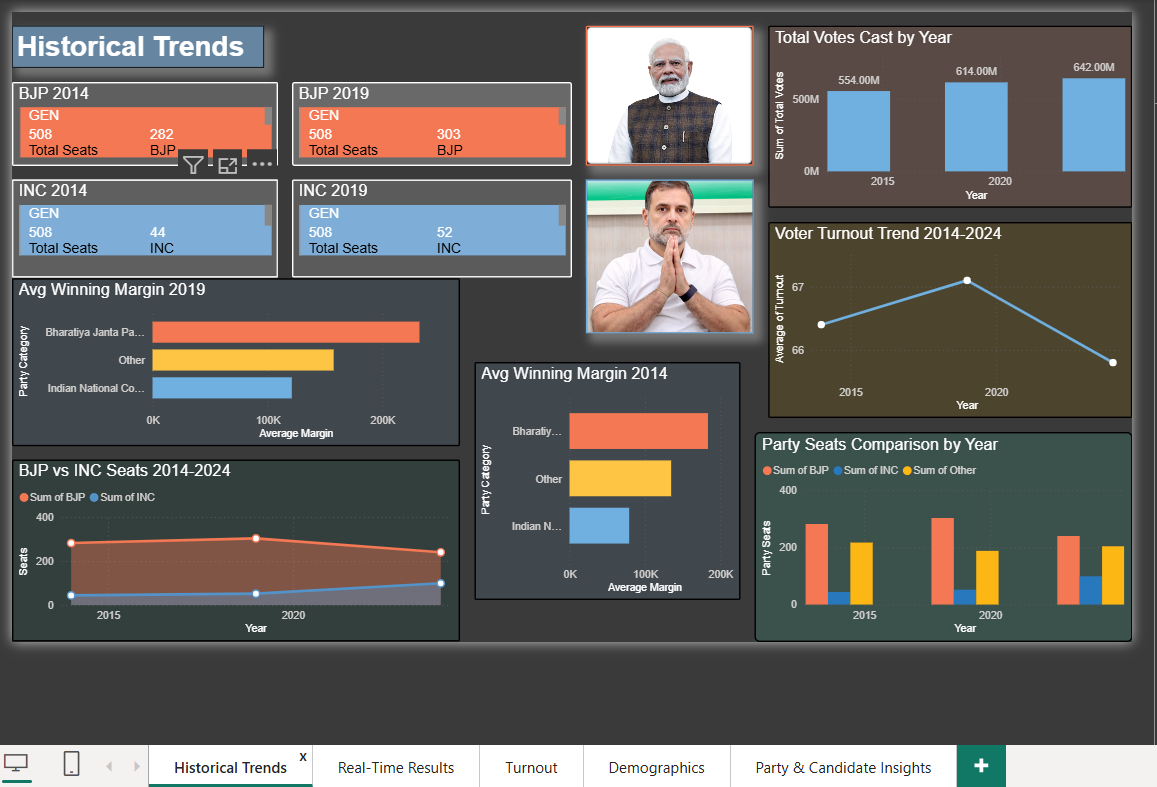

This screenshot's page, from the dashboard's own definition file:
{"tool":"powerbi","page":{"name":"Historical Trends","canvas":[1280,720],"ordinal":0},"visuals":[{"type":"multiRowCard","title":"BJP 2014","fields":{"Values":["ConstituencyWiseResults.Total Seats","YearSummary.BJP","Election2014.Type"]},"box":[0,80,304,96],"z":0},{"type":"multiRowCard","title":"BJP 2019","fields":{"Values":["ConstituencyWiseResults.Total Seats","YearSummary.BJP","Election2014.Type"]},"box":[320,80,320,96],"z":1000},{"type":"multiRowCard","title":"INC 2014","fields":{"Values":["ConstituencyWiseResults.Total Seats","YearSummary.INC","Election2014.Type"]},"box":[0,192,304,112],"z":2000},{"type":"multiRowCard","title":"INC 2019 ","fields":{"Values":["ConstituencyWiseResults.Total Seats","YearSummary.INC","Election2014.Type"]},"box":[320,192,320,112],"z":3000},{"type":"textbox","box":[0,16,288,48],"z":4000},{"type":"lineChart","title":"BJP vs INC Seats 2014-2024","fields":{"Category":["YearSummary.Year"],"Y":["Sum(YearSummary.BJP)","Sum(YearSummary.INC)"]},"box":[0,512,512,208],"z":5000},{"type":"clusteredColumnChart","title":"Party Seats Comparison by Year","fields":{"Category":["YearSummary.Year"],"Y":["Sum(YearSummary.BJP)","Sum(YearSummary.INC)","Sum(YearSummary.Other)"]},"box":[848,480,432,240],"z":6000},{"type":"lineChart","title":"Voter Turnout Trend 2014-2024","fields":{"Category":["YearSummary.Year"],"Y":["Avg(YearSummary.Avg Turnout)"]},"box":[864,240,416,224],"z":7000},{"type":"clusteredColumnChart","title":"Total Votes Cast by Year","fields":{"Category":["YearSummary.Year"],"Y":["Sum(YearSummary.Total Votes)"]},"box":[864,16,416,208],"z":8000},{"type":"clusteredBarChart","title":"Avg Winning Margin 2014","fields":{"Category":["Election2014.Party Category"],"Y":["Avg(Election2014.Margin)"]},"box":[528,400,304,272],"z":9000},{"type":"clusteredBarChart","title":"Avg Winning Margin 2019","fields":{"Category":["Election2019.Party Category"],"Y":["Avg(Election2019.Margin)"]},"box":[0,304,512,192],"z":10000},{"type":"image","box":[656,16,192,160],"z":11000},{"type":"image","box":[656,192,192,176],"z":12000}]}

Visuals, with their boxes on the page's 1280x720 design canvas (x1, y1, x2, y2). These are canvas units, not pixel positions in the 1157x787 screenshot, which may show the page scaled, cropped or inside an application window:
"BJP 2014" multiRowCard: BBox(0, 80, 304, 176)
"BJP 2019" multiRowCard: BBox(320, 80, 640, 176)
"INC 2014" multiRowCard: BBox(0, 192, 304, 304)
"INC 2019 " multiRowCard: BBox(320, 192, 640, 304)
textbox: BBox(0, 16, 288, 64)
"BJP vs INC Seats 2014-2024" lineChart: BBox(0, 512, 512, 720)
"Party Seats Comparison by Year" clusteredColumnChart: BBox(848, 480, 1280, 720)
"Voter Turnout Trend 2014-2024" lineChart: BBox(864, 240, 1280, 464)
"Total Votes Cast by Year" clusteredColumnChart: BBox(864, 16, 1280, 224)
"Avg Winning Margin 2014" clusteredBarChart: BBox(528, 400, 832, 672)
"Avg Winning Margin 2019" clusteredBarChart: BBox(0, 304, 512, 496)
image: BBox(656, 16, 848, 176)
image: BBox(656, 192, 848, 368)
